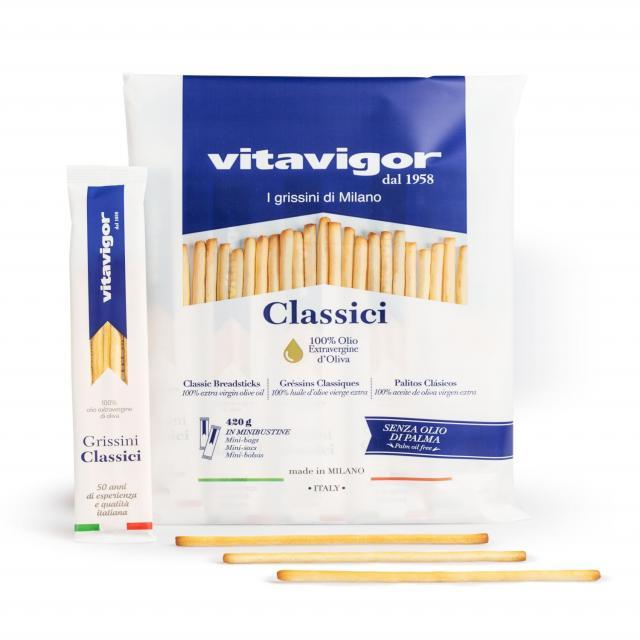Grissini: (275, 565, 605, 586), (222, 549, 530, 567), (166, 533, 490, 545)
